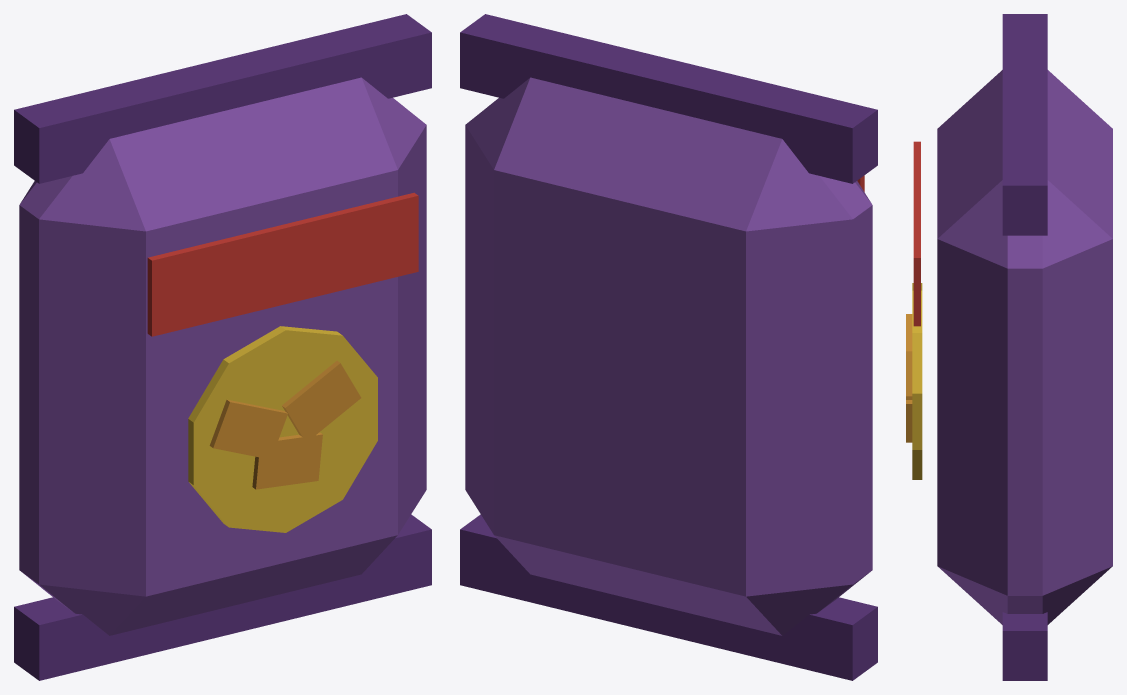
The model's file is hh_snack.glb.
3 views of the same model, side by side, from view 1: azimuth 30°, elevation 25°; view 2: azimuth 150°, elevation 25°; view 3: azimuth 270°, elevation 25° (orthographic). The views are drawn at different scales.
Parts seen in each view (by area): view 1: hh_snack; view 2: hh_snack; view 3: hh_snack.
Boxes of the visible parts, x1,y1,x2,y2 form: hh_snack: [14, 14, 431, 680]; hh_snack: [460, 14, 877, 680]; hh_snack: [906, 14, 1112, 680].
Bounding box in the file's own units: 0.162 × 0.218 × 0.0825.
